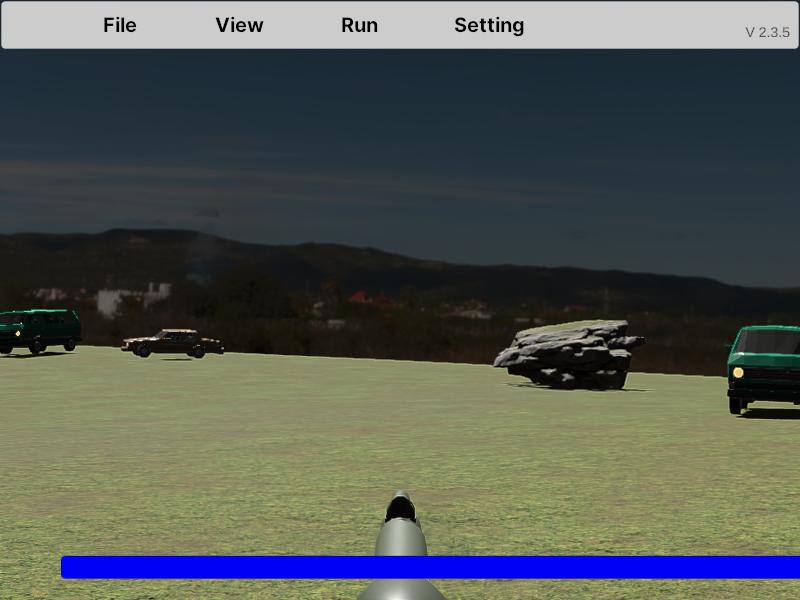car: (727, 324, 800, 418), (0, 308, 81, 355), (121, 328, 224, 359)
